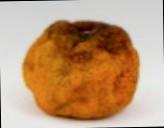Orange Rotten: (17, 10, 144, 126)
